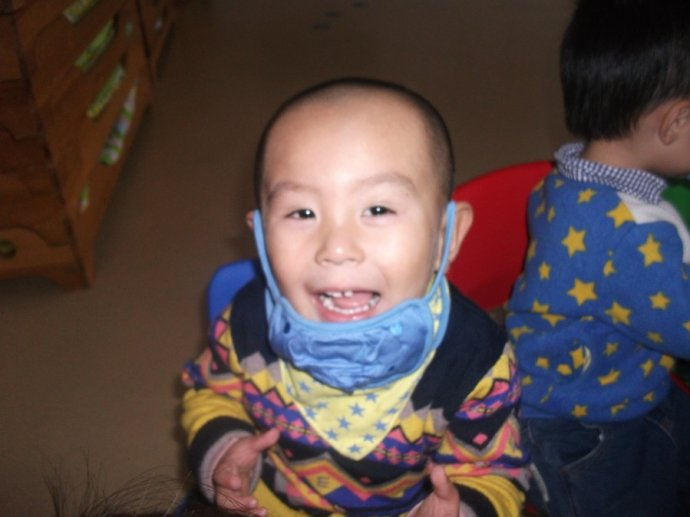face_mask: (263, 116, 437, 388)
